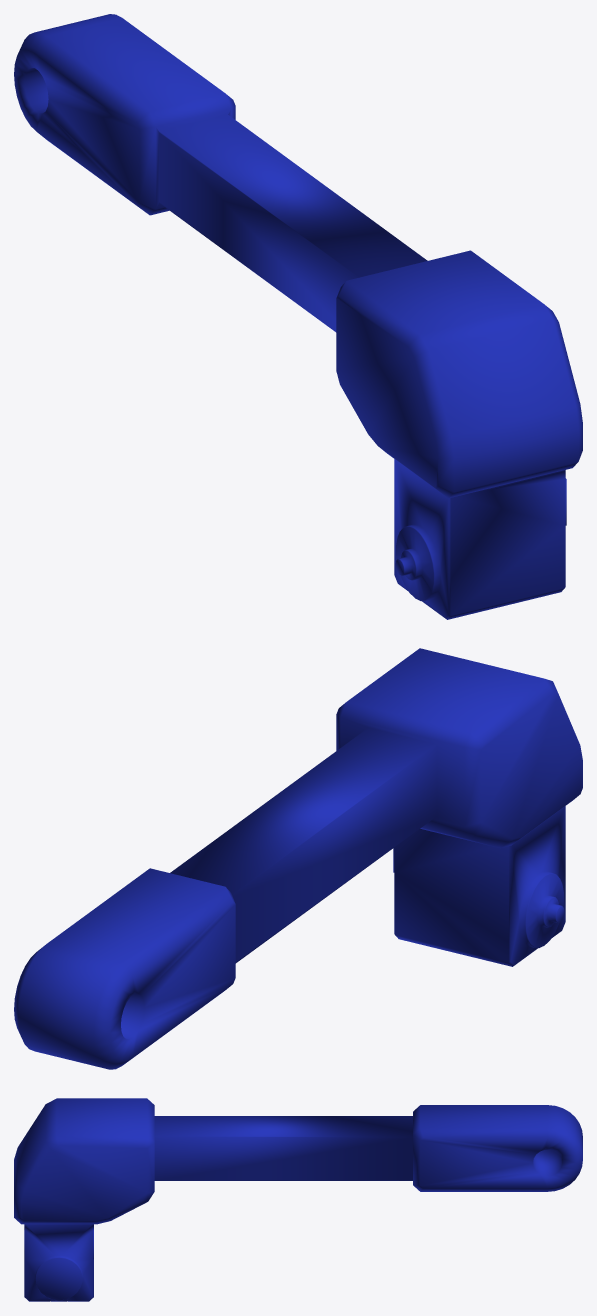
File: wx200_3_upper_arm.obj
The picture shows the model from 3 angles, top to bottom: view 1: azimuth 30°, elevation 25°; view 2: azimuth 150°, elevation 25°; view 3: azimuth 270°, elevation 25°; orthographic projection. The views are drawn at different scales.
Bounding box in the file's own units: 44.5 × 75.7 × 232.
